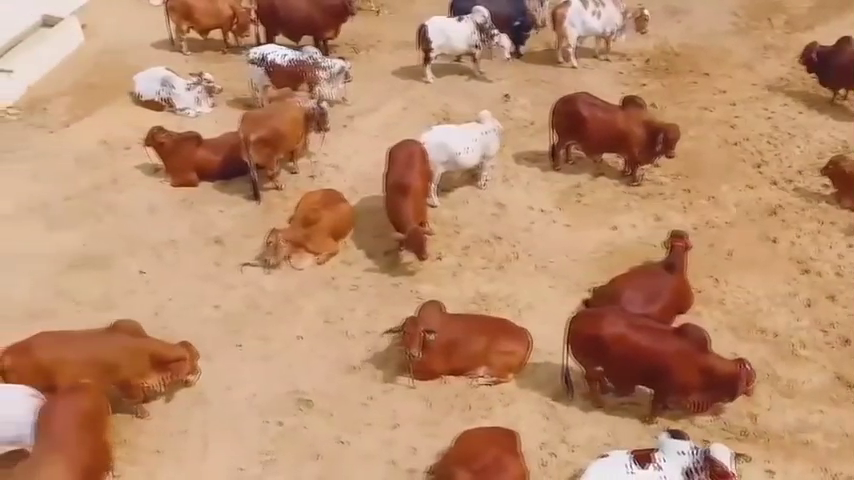bo: (557, 300, 767, 429), (2, 316, 210, 427), (389, 286, 540, 400), (542, 84, 681, 200), (581, 213, 706, 329), (234, 84, 333, 205), (252, 176, 362, 282), (567, 420, 758, 478), (20, 388, 131, 480), (410, 105, 510, 207), (129, 116, 249, 201), (237, 39, 356, 119), (375, 126, 440, 266), (546, 3, 676, 73), (418, 419, 540, 480), (413, 9, 508, 85), (441, 1, 539, 68), (249, 1, 366, 57), (157, 3, 257, 63), (126, 57, 222, 116), (798, 30, 854, 114), (2, 372, 49, 468), (815, 148, 854, 209)
